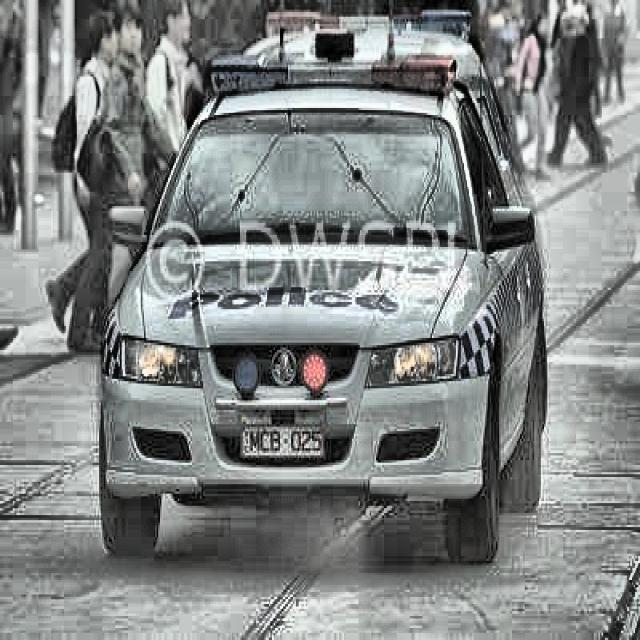license_plate: (241, 424, 325, 464)
